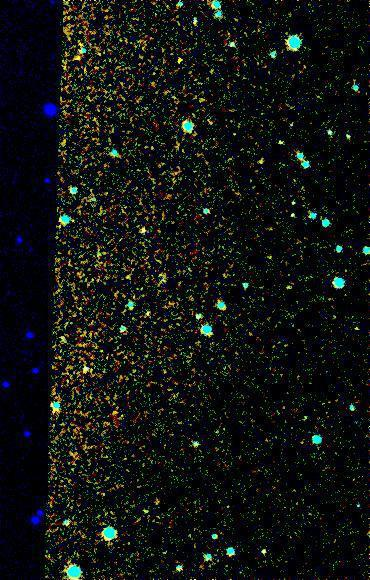star: (62, 40, 92, 70)
